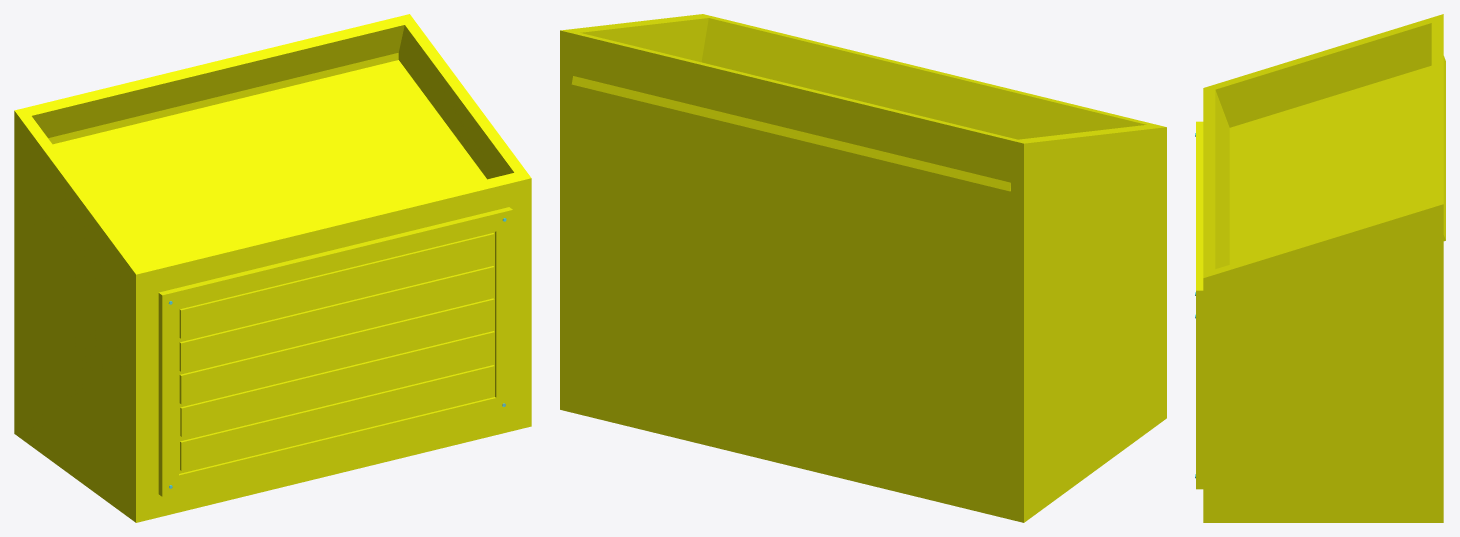
3 renders of one model, left to right at view 1: azimuth 30°, elevation 25°; view 2: azimuth 150°, elevation 25°; view 3: azimuth 270°, elevation 25°, orthographic. The views are drawn at different scales.
Visible parts, largest first — view 1: skpFMl1y0_1; view 2: skpFMl1y0_1; view 3: skpFMl1y0_1.
Part boxes in pixels (x1,y1,x2,y2): skpFMl1y0_1: (14,14,531,522); skpFMl1y0_1: (560,14,1166,522); skpFMl1y0_1: (1195,14,1445,522).
Size of the model in its own units: 60 by 46.89 by 33.45.
